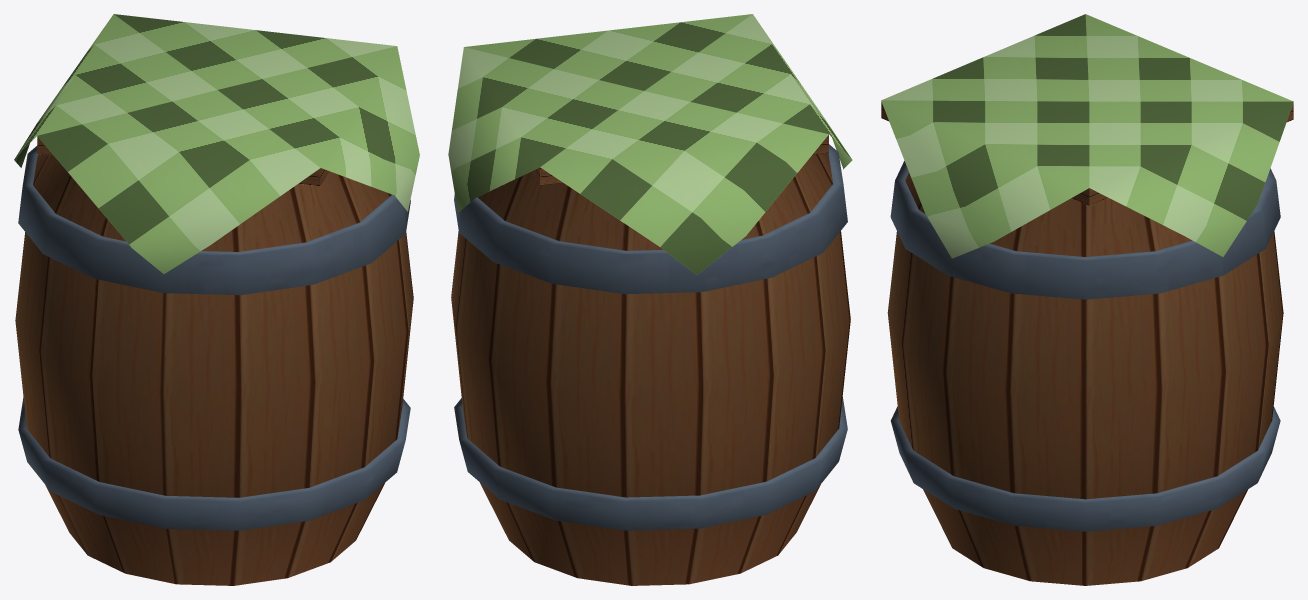
The model's file is small-barrel-art.glb.
The picture shows the model from 3 angles, left to right: view 1: azimuth 30°, elevation 25°; view 2: azimuth 150°, elevation 25°; view 3: azimuth 270°, elevation 25°; orthographic projection.
Parts seen in each view (by area): view 1: SmallBarrel_Art; view 2: SmallBarrel_Art; view 3: SmallBarrel_Art.
Boxes of the visible parts, <box> form: SmallBarrel_Art: <box>14,14,419,585</box>; SmallBarrel_Art: <box>448,14,852,585</box>; SmallBarrel_Art: <box>881,14,1293,585</box>.
Size of what is drawn, in the model's own units: 0.9001 by 1.03 by 0.9024.
Materials: 3 (3 with a texture image).
